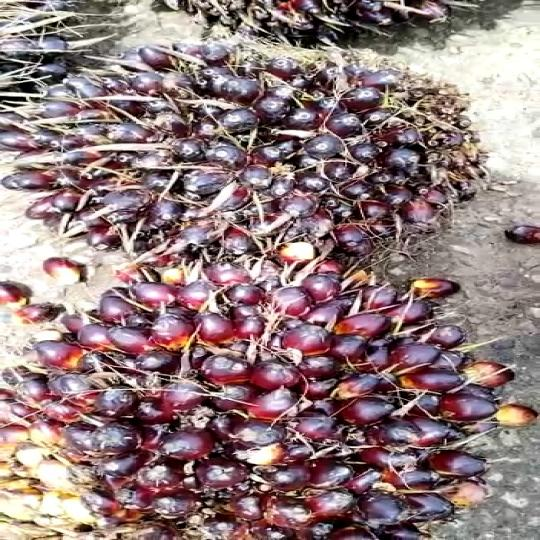kurang masak: (0, 258, 503, 540), (10, 40, 498, 270)
